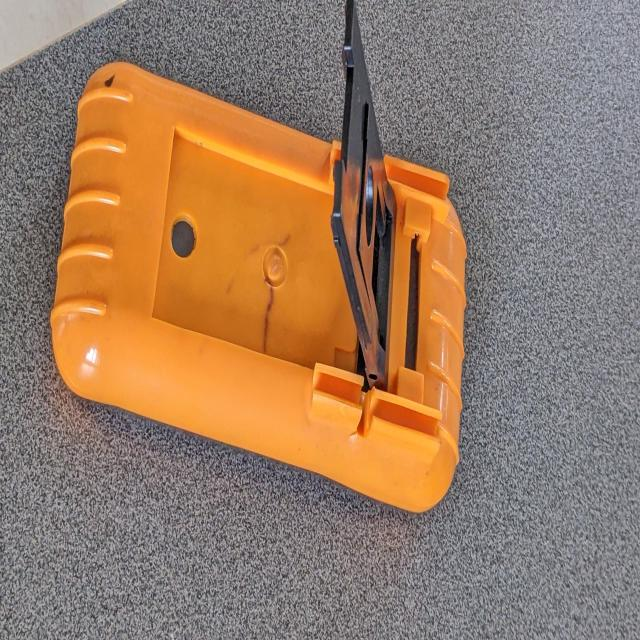Digital Multimeter: (43, 49, 470, 514)
